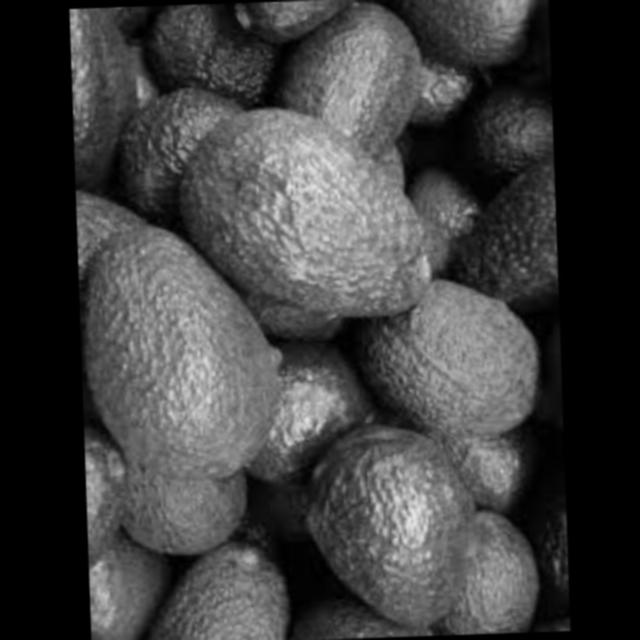bo: (188, 106, 471, 350), (90, 174, 288, 493), (311, 397, 485, 623), (357, 288, 545, 438), (288, 11, 424, 166), (126, 2, 290, 113), (138, 546, 313, 640), (449, 500, 557, 636), (70, 7, 135, 174), (475, 70, 556, 188), (417, 0, 546, 69), (473, 182, 559, 284), (430, 428, 542, 502)
